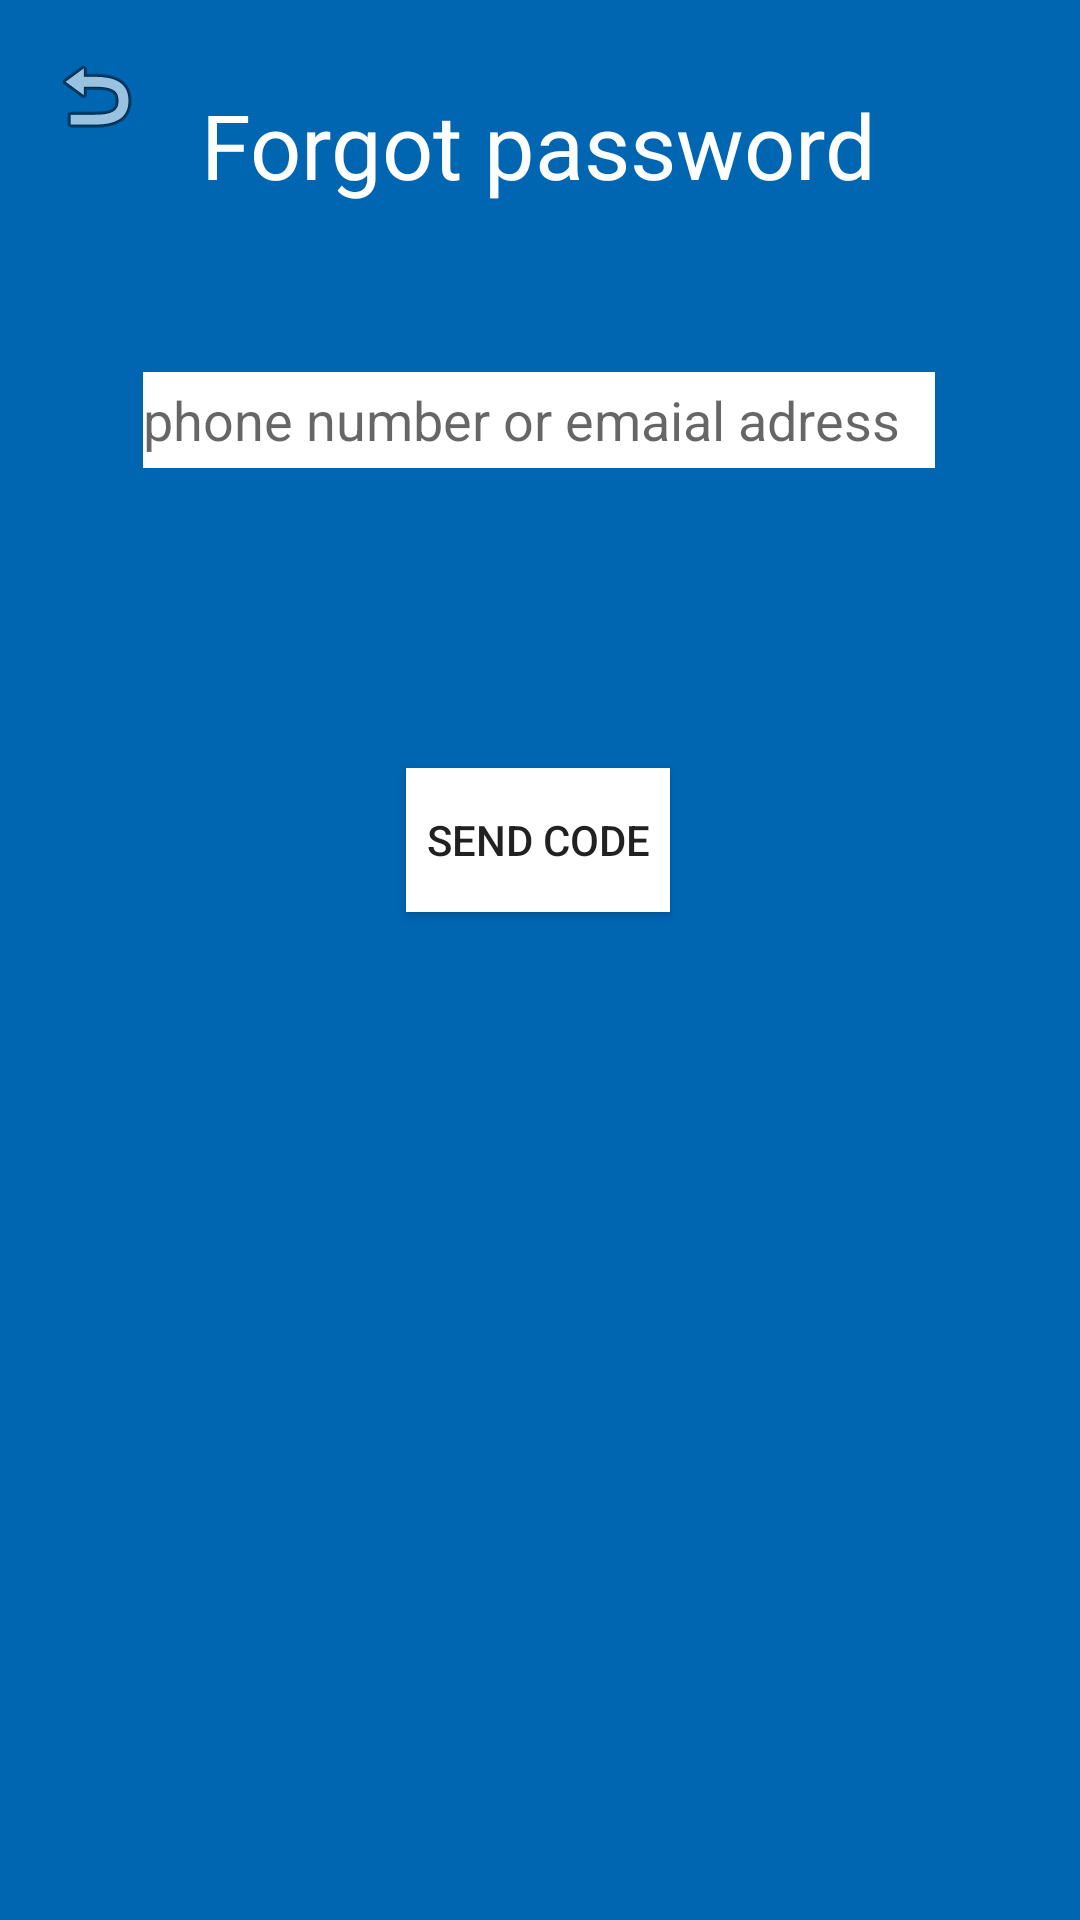

Named icons in this screenshot (1080×1920) and their bounding boxes, (x1, y1, x2, y2):
revert: (63, 65, 132, 128)
